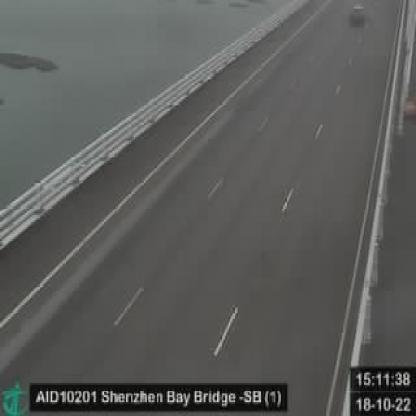Car: (349, 2, 369, 26)
